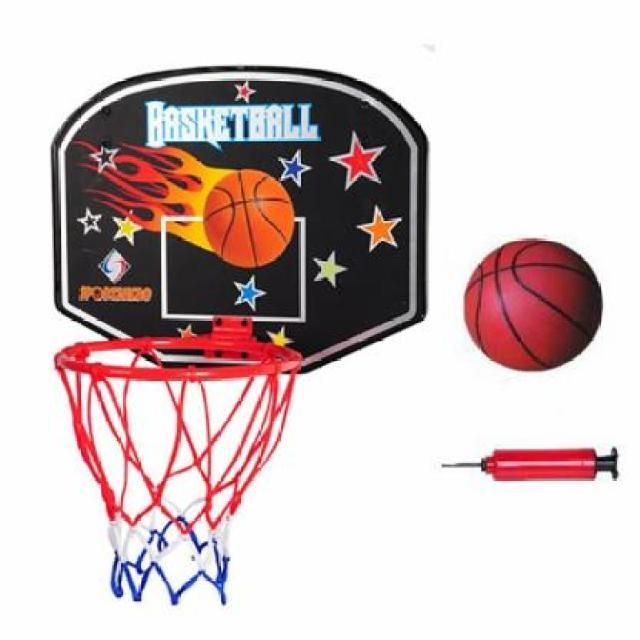basketball: (462, 236, 604, 372), (202, 168, 294, 268)
rim: (54, 337, 302, 611)
